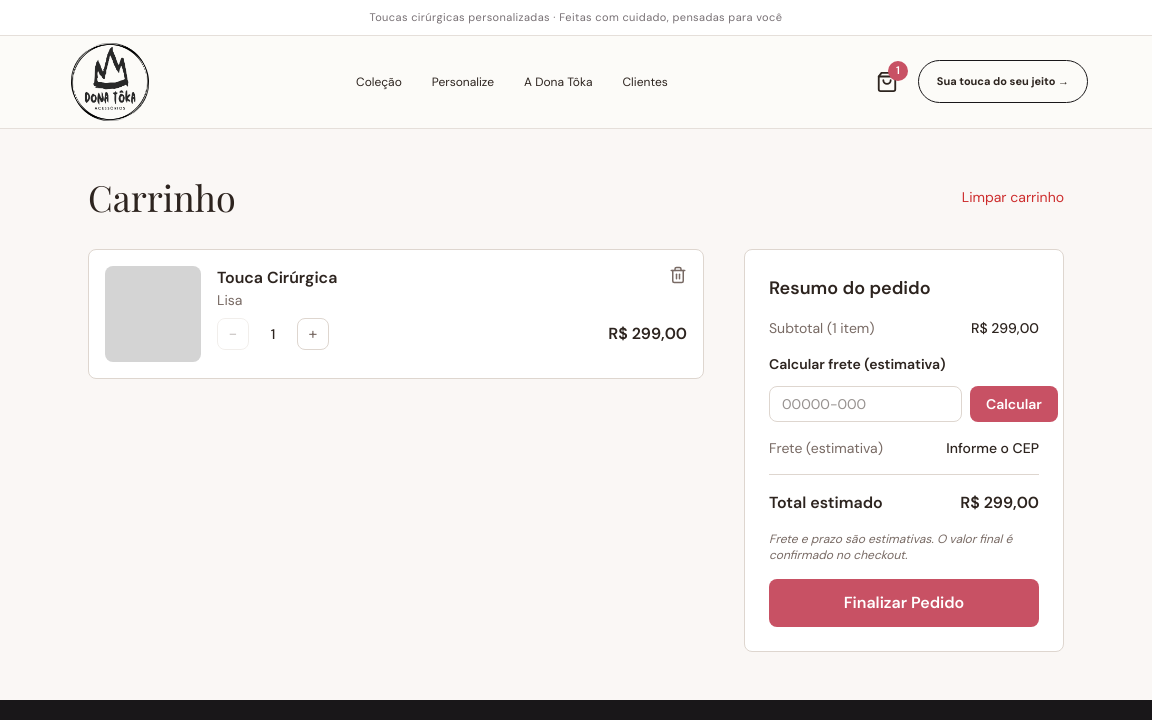
Scenario: Cart freight estimator › shows free shipping when subtotal meets the threshold
Expected: the text "Touca Cirúrgica" is shown, [217,266,337,290]
In the field named "cep para estimativa de frete": (866, 404) [769,386,962,422], type "01310100"
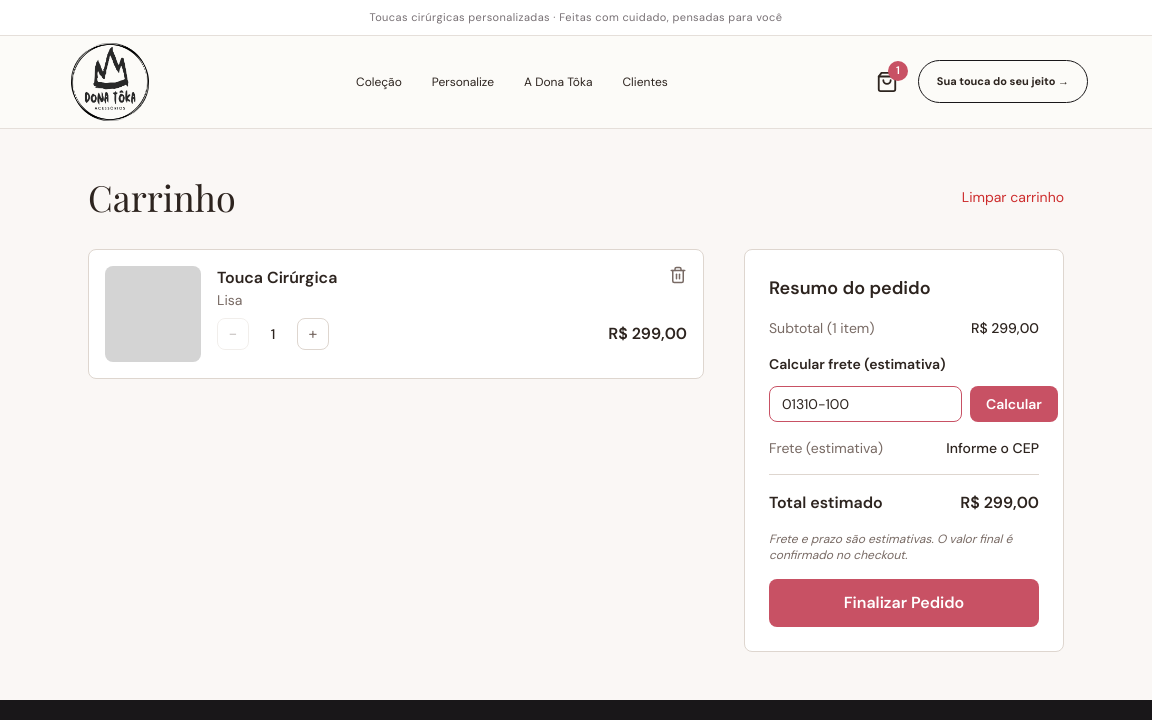
Click the button "Calcular": (1014, 404) [970,386,1058,422]
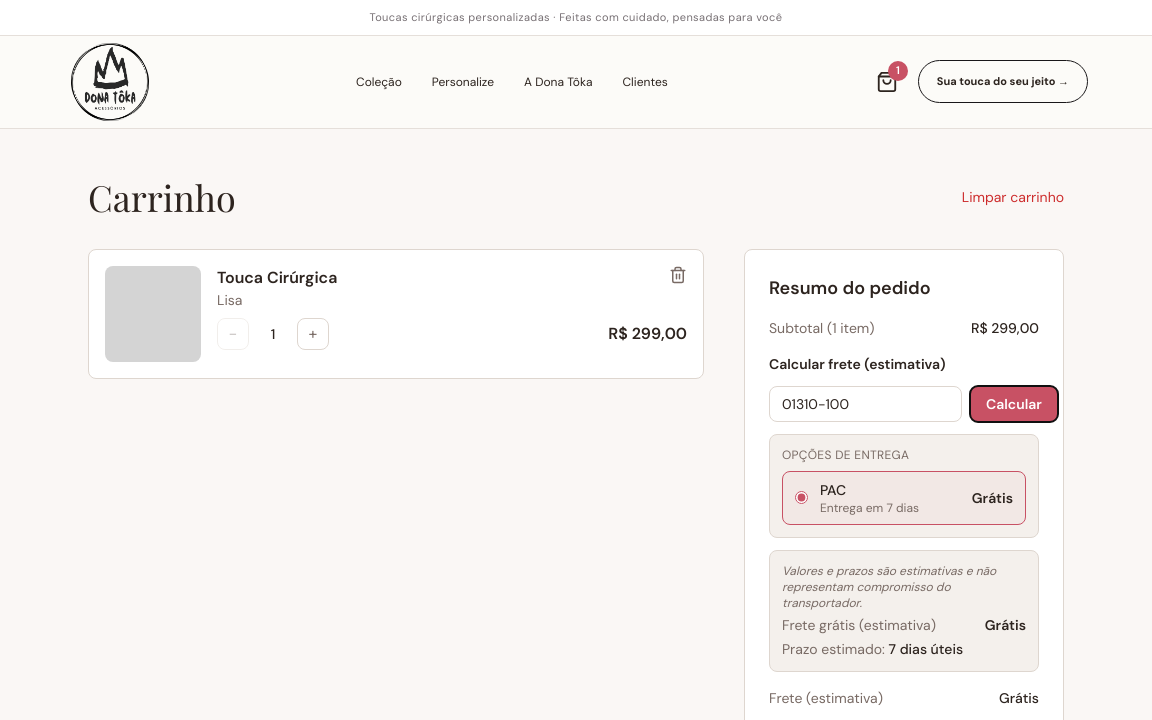
Now the message is shown, box [769,550,1039,672]
Now the text "Grátis" in the row of "Entrega em" is shown, box [972,488,1013,506]
